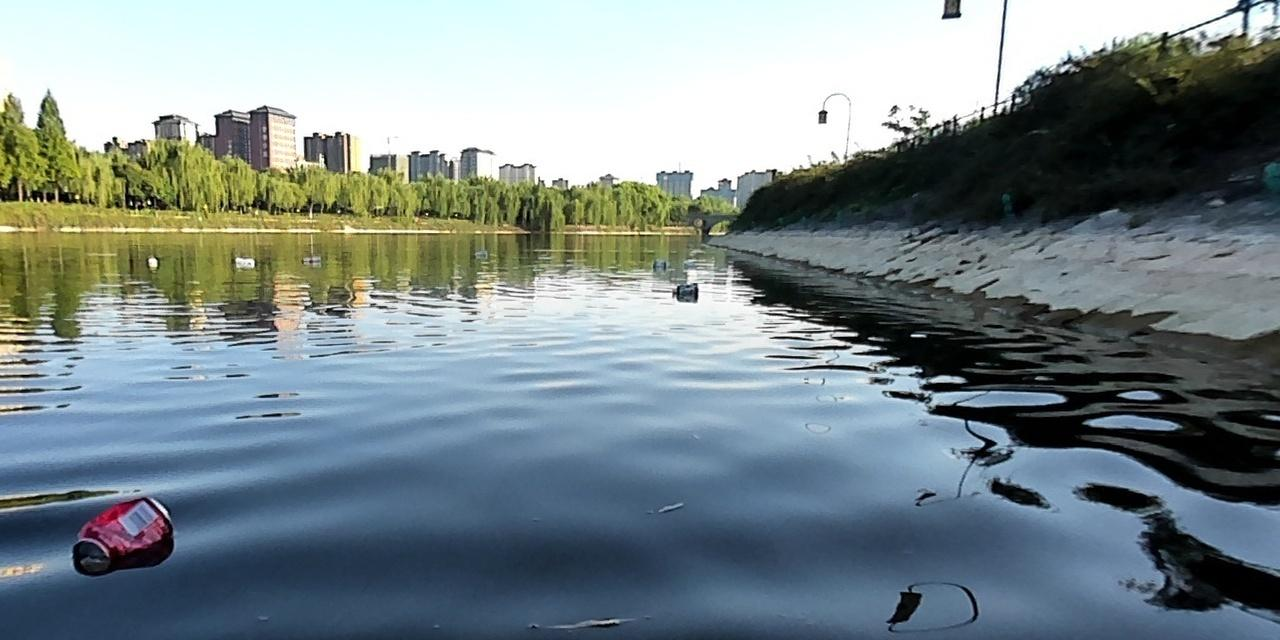bottle: (67, 485, 183, 574), (668, 280, 699, 298), (230, 252, 256, 266), (648, 256, 668, 268), (299, 254, 323, 263)
